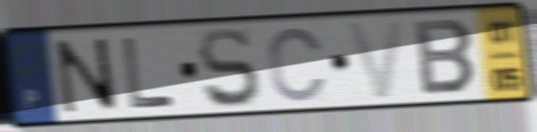B: (412, 18, 480, 98)
C: (266, 24, 330, 105)
L: (119, 35, 178, 110)
N: (51, 36, 123, 116)
S: (195, 25, 264, 111)
V: (344, 17, 409, 103)
